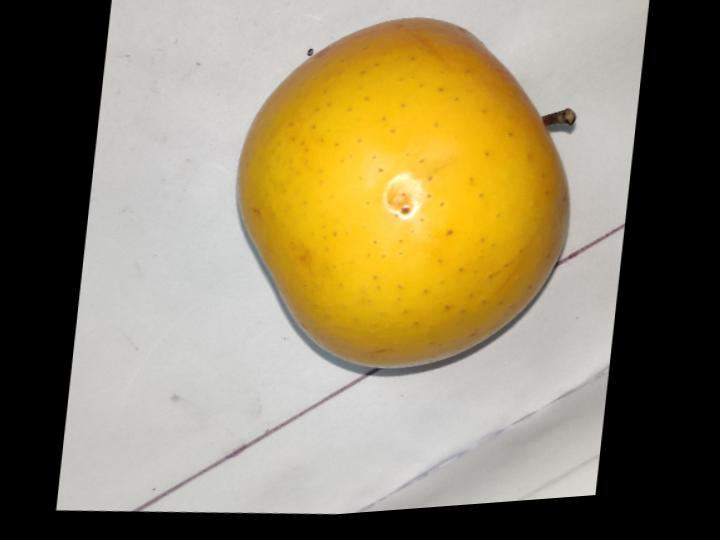apple: (239, 18, 568, 366)
surface_damage: (384, 173, 428, 219)
